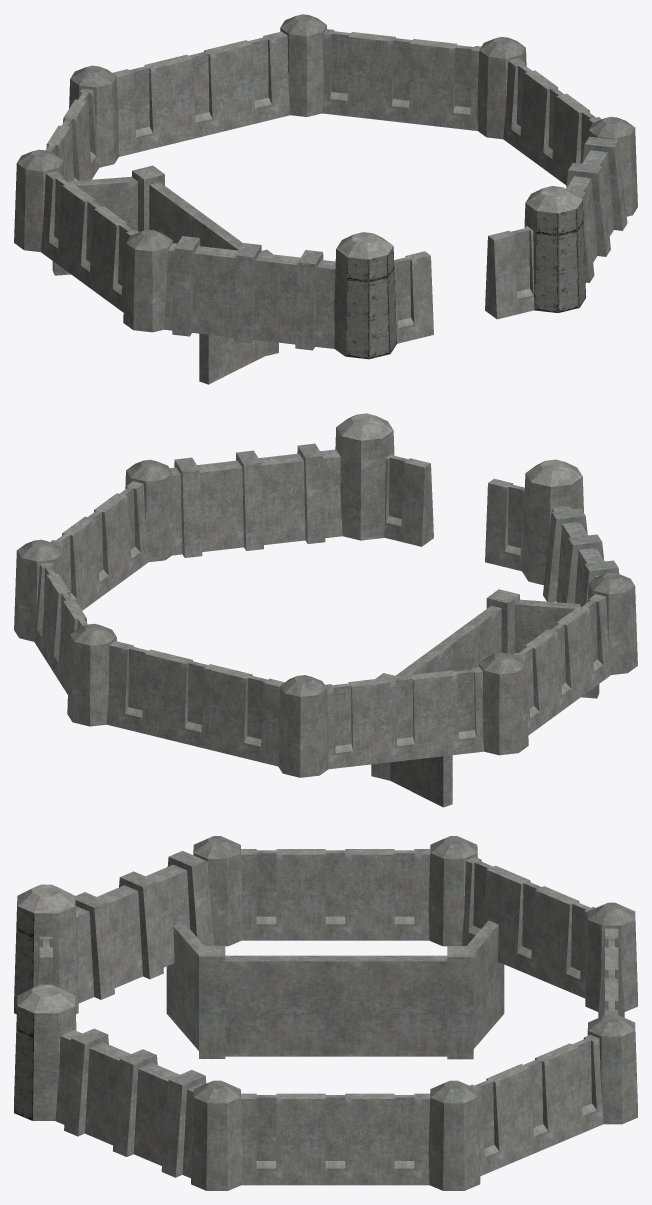
File: poi_all_impl_corral_32x32_s01_l0.fbx
3 views of the same model, one above another, from view 1: azimuth 30°, elevation 25°; view 2: azimuth 150°, elevation 25°; view 3: azimuth 270°, elevation 25° (orthographic). The views are drawn at different scales.
Visible parts, largest first — view 1: mesh_node; view 2: mesh_node; view 3: mesh_node.
Boxes of the visible parts, x1=… form: mesh_node: x1=14, y1=14, x2=637, y2=384; mesh_node: x1=14, y1=413, x2=637, y2=807; mesh_node: x1=14, y1=836, x2=637, y2=1190.
Bounding box in the file's own units: 24.01 × 7.4 × 23.73.
